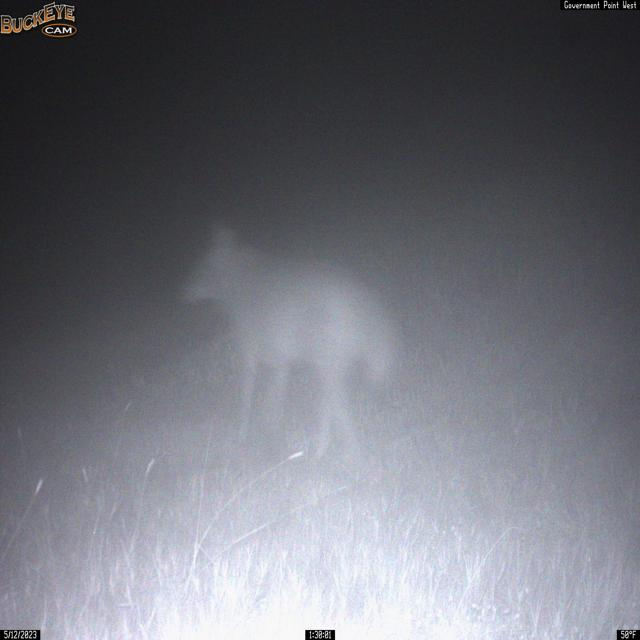coyote: (178, 221, 402, 474)
